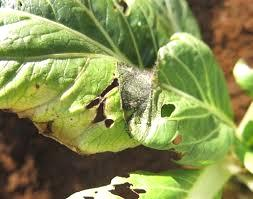Bok-Choy-Diseased: (0, 2, 158, 148), (107, 34, 232, 168)
